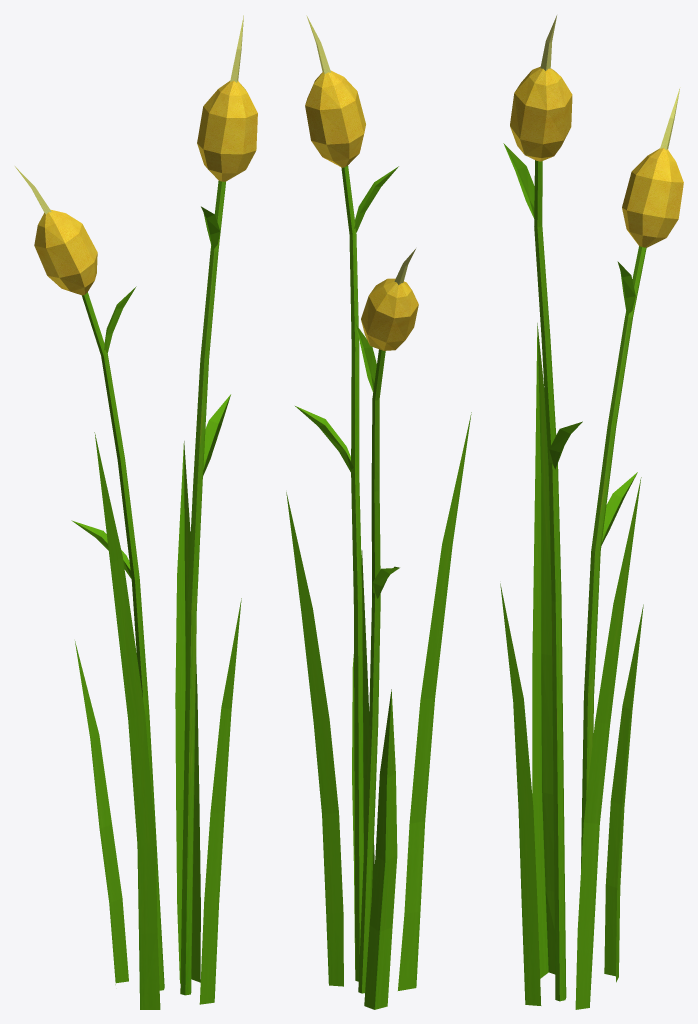
The model's file is PuffReed2_Yellow.fbx.
The picture shows the model from 3 angles, left to right: view 1: azimuth 30°, elevation 25°; view 2: azimuth 150°, elevation 25°; view 3: azimuth 270°, elevation 25°; orthographic projection. The views are drawn at different scales.
Parts seen in each view (by area): view 1: Mesh; view 2: Mesh; view 3: Mesh.
Boxes of the visible parts, box(x1,y1,x2,y2) form: Mesh: box(15, 15, 257, 1009); Mesh: box(286, 15, 471, 1009); Mesh: box(500, 15, 683, 1009).
Bounding box in the file's own units: 76.66 × 405 × 66.5.
